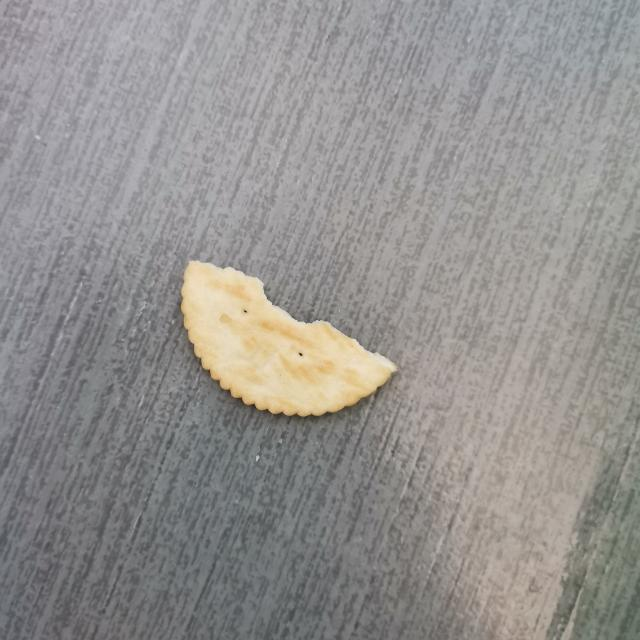Broken: (179, 259, 398, 418)
